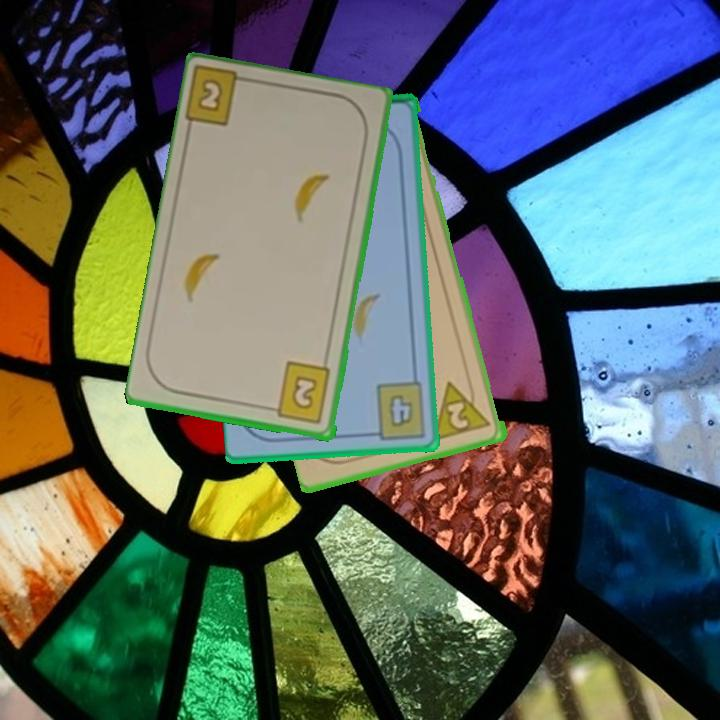2b: (265, 359, 334, 427), (184, 66, 257, 130)
2p: (431, 374, 494, 444)
4b: (365, 378, 429, 442)
